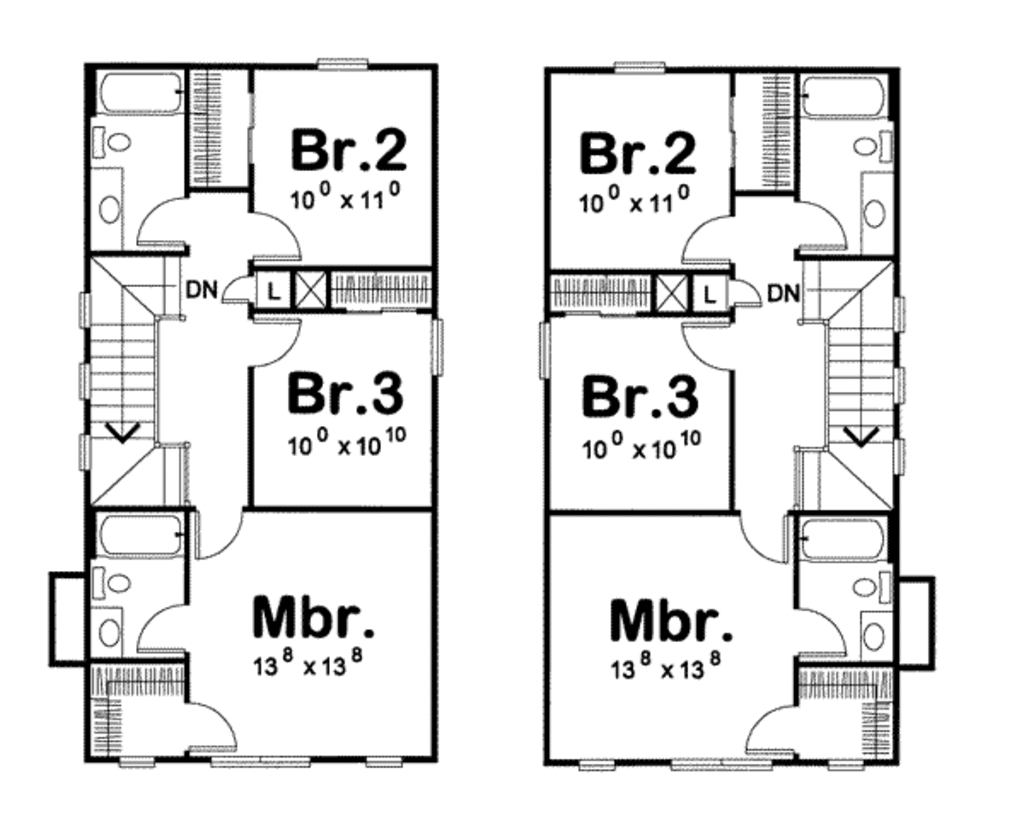door: (778, 195, 851, 259), (721, 499, 790, 566), (235, 205, 312, 264), (747, 687, 807, 753), (173, 703, 247, 755), (137, 592, 194, 659), (250, 313, 305, 379), (670, 209, 735, 264), (791, 600, 848, 659), (134, 194, 196, 246), (681, 320, 730, 377), (192, 513, 250, 557), (209, 272, 269, 312)
large_sink: (73, 561, 146, 604), (68, 126, 142, 165), (843, 120, 903, 168), (835, 561, 889, 607)
small_sink: (866, 172, 903, 263), (87, 168, 121, 248), (85, 603, 130, 650), (863, 616, 894, 664)
stairs: (94, 248, 195, 504), (803, 247, 898, 513)
tub: (92, 61, 192, 114), (87, 508, 187, 560), (781, 514, 891, 561), (792, 76, 891, 124)
window: (885, 294, 913, 481), (664, 748, 786, 774), (195, 746, 321, 769), (421, 305, 459, 378), (308, 44, 379, 79), (609, 56, 674, 87), (528, 321, 560, 382), (108, 753, 169, 774), (820, 756, 878, 777), (576, 753, 624, 774), (363, 756, 404, 773)
